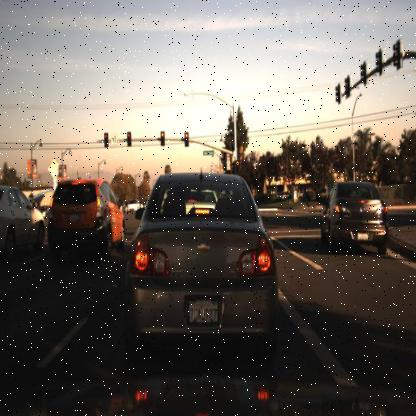car: (127, 171, 278, 351), (319, 179, 391, 265), (46, 177, 122, 257), (0, 184, 43, 254), (125, 197, 141, 214)
trafficLight-Red: (183, 129, 192, 148), (234, 153, 242, 168), (102, 130, 110, 142), (125, 130, 133, 142), (160, 131, 165, 149)
trafficLight-RedLeft: (126, 127, 134, 148), (104, 132, 111, 152)
